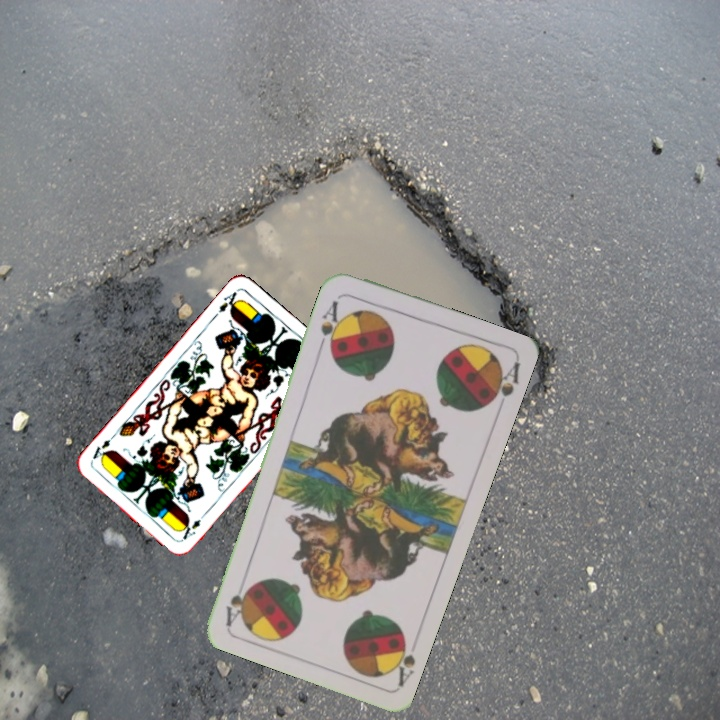EA: (178, 508, 209, 543), (215, 287, 243, 315)
SA: (384, 628, 418, 689), (315, 296, 347, 353)
